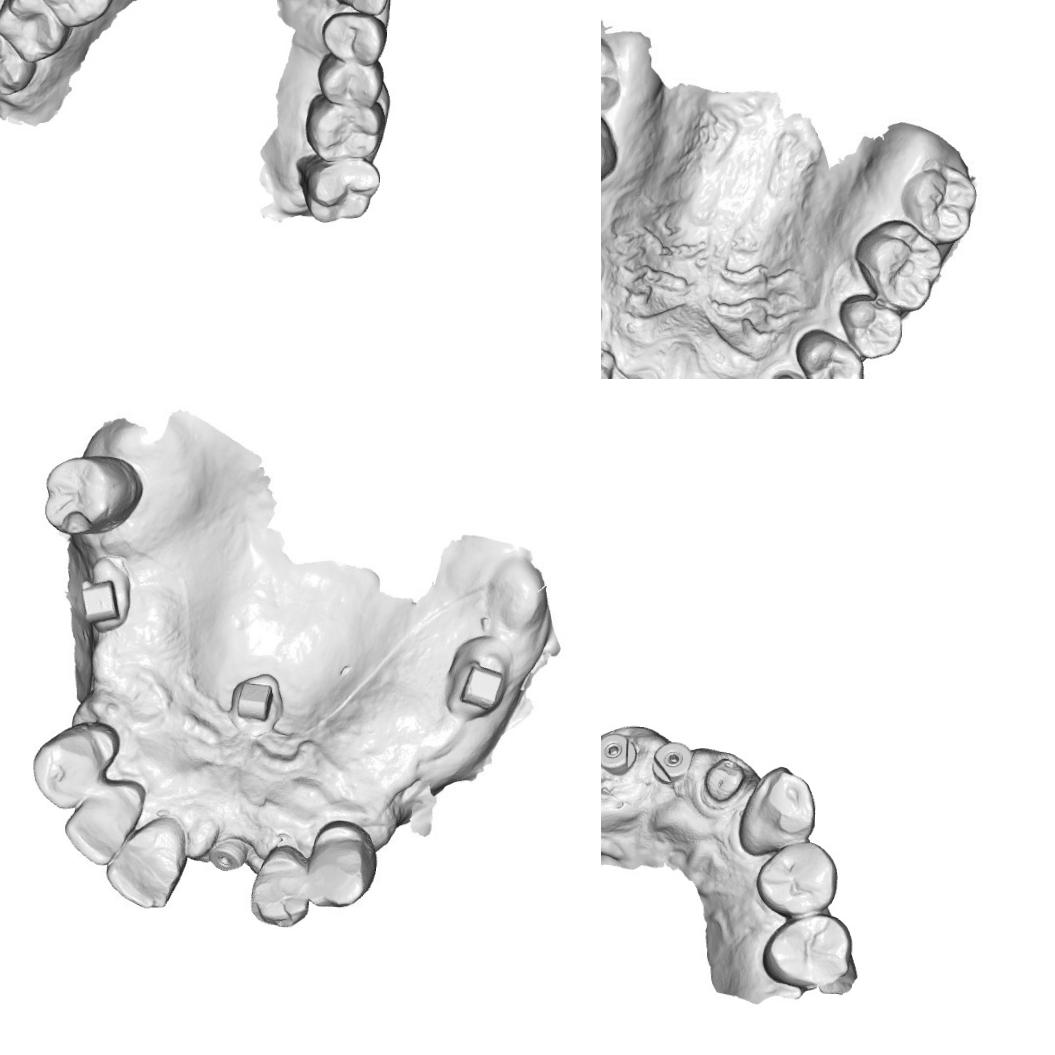canine: (735, 761, 820, 858), (25, 726, 109, 814), (307, 830, 377, 912), (331, 0, 393, 15)
crown: (698, 754, 750, 806)
implant: (601, 729, 644, 780), (652, 738, 695, 781), (210, 831, 252, 875)
incisor: (102, 819, 187, 914), (65, 783, 140, 868), (243, 848, 314, 932)
molar: (852, 216, 946, 314), (39, 455, 142, 539), (897, 161, 978, 246), (292, 152, 383, 226), (302, 91, 387, 164), (0, 0, 71, 65), (0, 20, 39, 97), (32, 0, 118, 29), (601, 28, 623, 111)
premolar: (758, 912, 855, 989), (752, 841, 838, 918), (834, 290, 905, 362), (314, 50, 386, 110), (791, 325, 867, 379), (319, 10, 389, 68)
